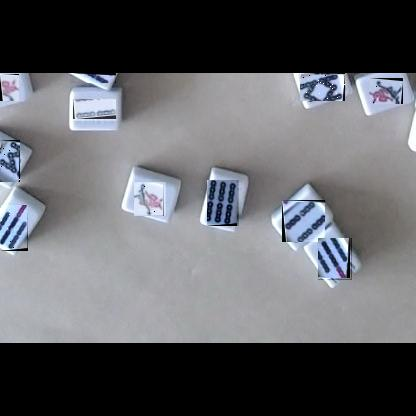1s: (135, 182, 169, 216), (369, 78, 403, 104), (0, 74, 19, 101)
4s: (282, 200, 325, 242), (73, 100, 116, 124)
6s: (208, 180, 242, 226)
7s: (319, 239, 355, 283), (0, 205, 28, 251)
8s: (300, 73, 345, 101), (0, 140, 20, 182)
9s: (70, 73, 116, 83)
